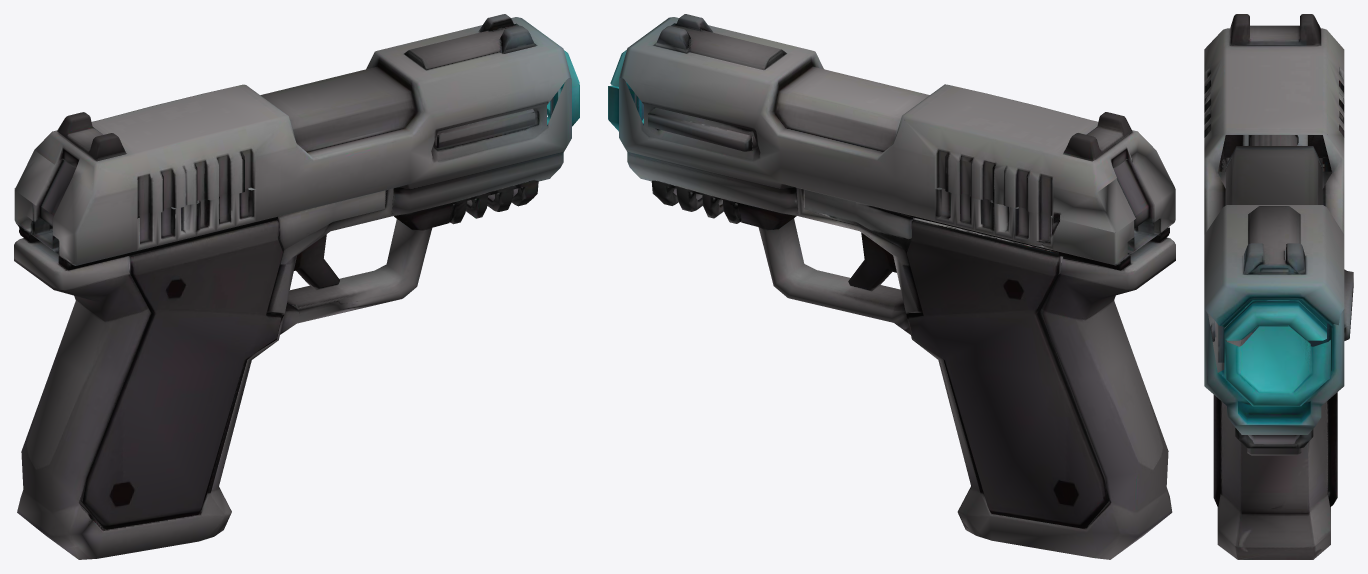
The model's file is 019e0cd6-b8ac-74d4-808c-0d9297fea7b5.glb.
3 renders of one model, left to right at view 1: azimuth 30°, elevation 25°; view 2: azimuth 150°, elevation 25°; view 3: azimuth 270°, elevation 25°, orthographic. The views are drawn at different scales.
Visible parts, largest first — view 1: tripo_node_25de6155-1d50-4e7a-b816-f96e60256d3e; view 2: tripo_node_25de6155-1d50-4e7a-b816-f96e60256d3e; view 3: tripo_node_25de6155-1d50-4e7a-b816-f96e60256d3e.
Part boxes in pixels (x1=…): tripo_node_25de6155-1d50-4e7a-b816-f96e60256d3e: x1=14, y1=14, x2=579, y2=559; tripo_node_25de6155-1d50-4e7a-b816-f96e60256d3e: x1=608, y1=14, x2=1175, y2=559; tripo_node_25de6155-1d50-4e7a-b816-f96e60256d3e: x1=1204, y1=14, x2=1353, y2=559.
Bounding box in the file's own units: 1 × 0.771 × 0.2172.
Materials: 1 (1 with a texture image).
